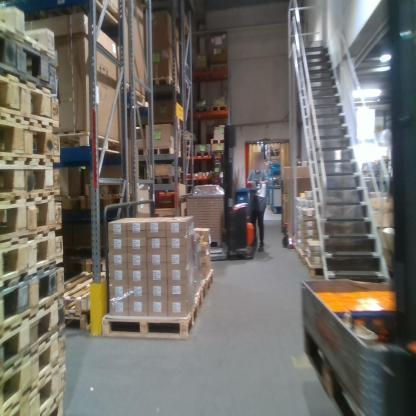pallets: (0, 17, 65, 415), (101, 267, 216, 341), (301, 322, 371, 413), (190, 98, 231, 164), (295, 249, 332, 281), (151, 69, 187, 99), (143, 142, 187, 163)
